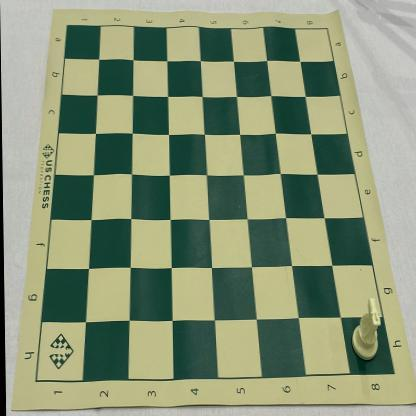white-knight: (350, 297, 381, 362)
